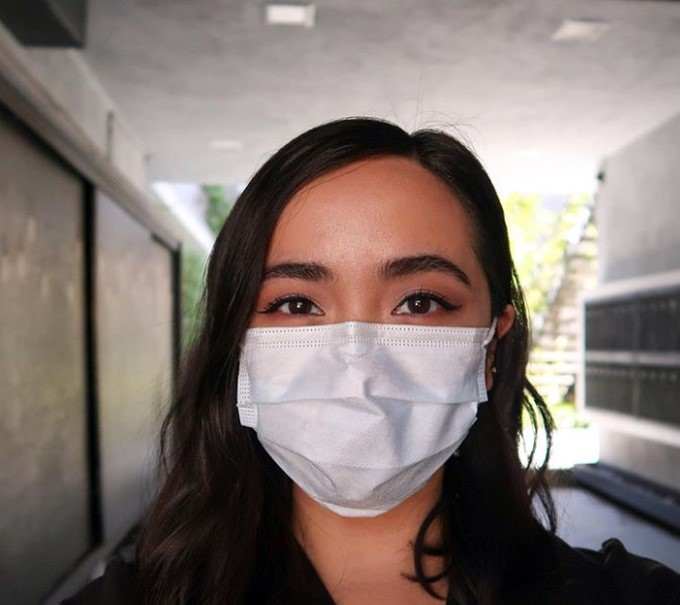face_with_mask: (222, 129, 518, 522)
